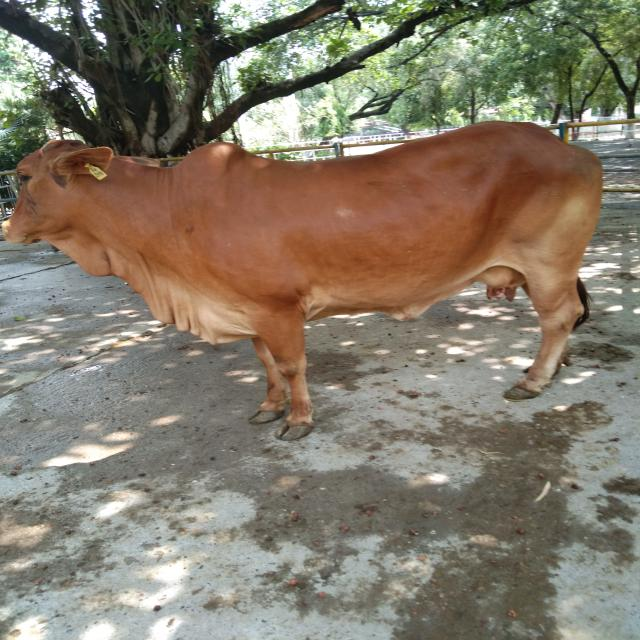Hoof: (276, 417, 315, 441), (247, 408, 285, 424), (502, 385, 540, 401)
